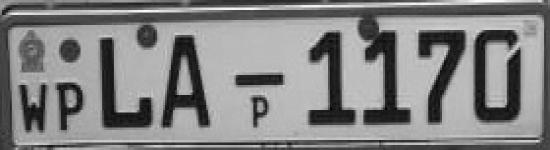-: (232, 69, 288, 95)
1: (298, 26, 359, 127), (358, 26, 417, 128)
7: (469, 24, 525, 130), (414, 26, 471, 130)
L: (159, 29, 220, 134), (96, 31, 157, 132)
P: (56, 78, 85, 136)
W: (17, 79, 51, 137)
